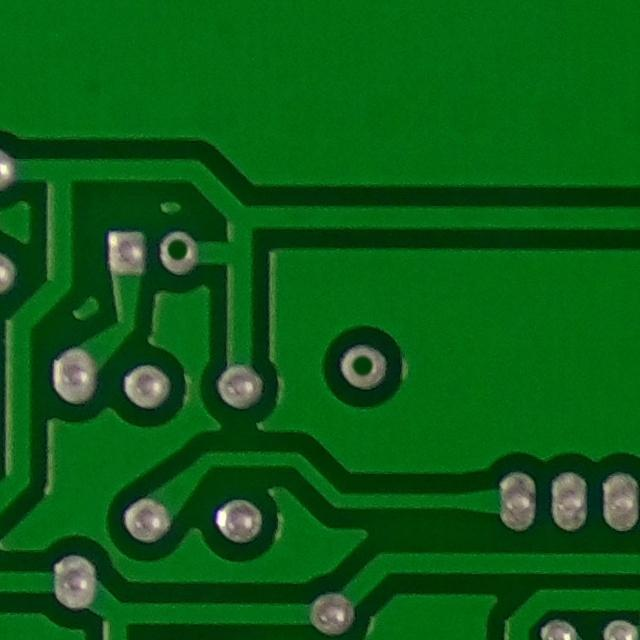missing_hole: (337, 343, 393, 401), (153, 229, 200, 276)
